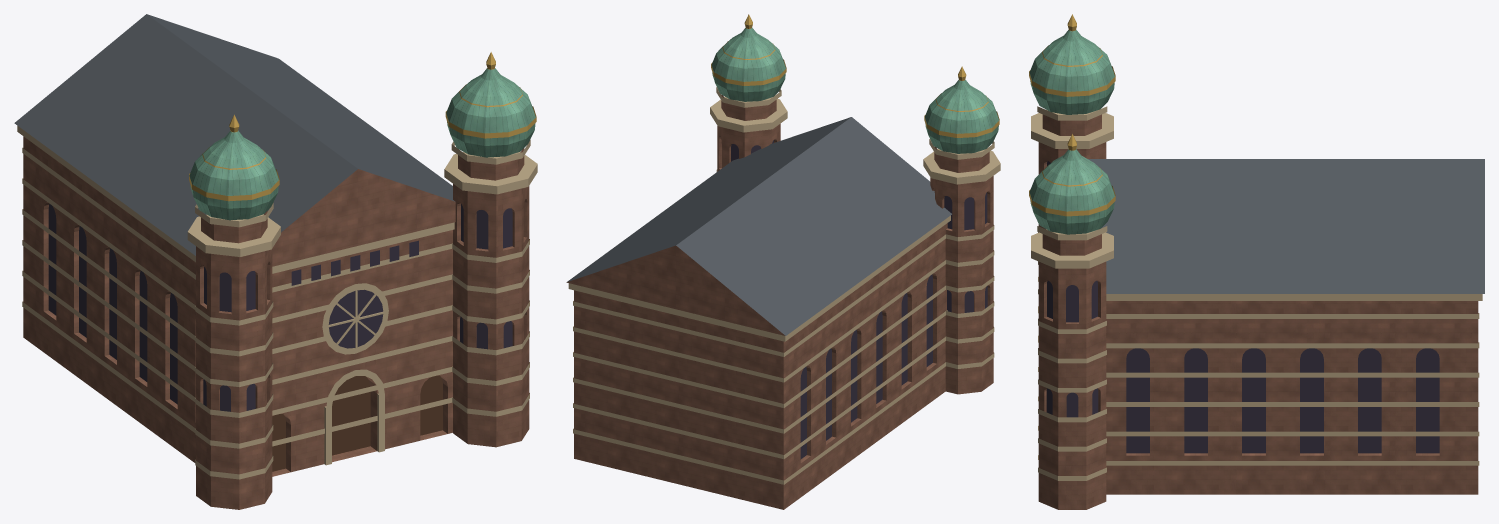
File: central_synagogue.glb
3 views of the same model, side by side, from view 1: azimuth 30°, elevation 25°; view 2: azimuth 150°, elevation 25°; view 3: azimuth 270°, elevation 25° (orthographic). The views are drawn at different scales.
Visible parts, largest first — view 1: central_synagogue; view 2: central_synagogue; view 3: central_synagogue.
Part boxes in pixels (x1,y1,x2,y2): central_synagogue: [14, 14, 537, 509]; central_synagogue: [566, 14, 1000, 509]; central_synagogue: [1029, 14, 1484, 509].
Bounding box in the file's own units: 34.23 × 37 × 42.22.
3 materials, 3 textured.
